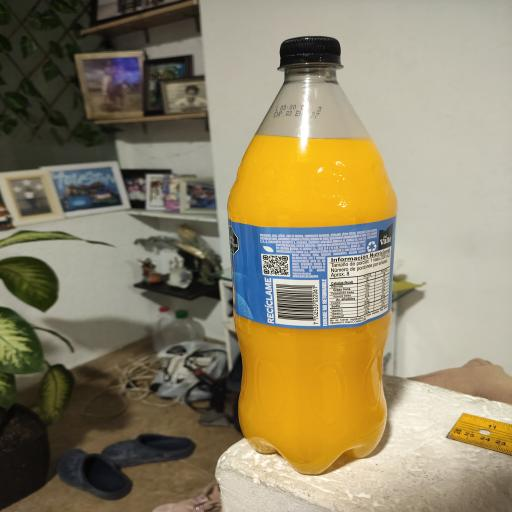Jugo del valle: (229, 37, 397, 474)
